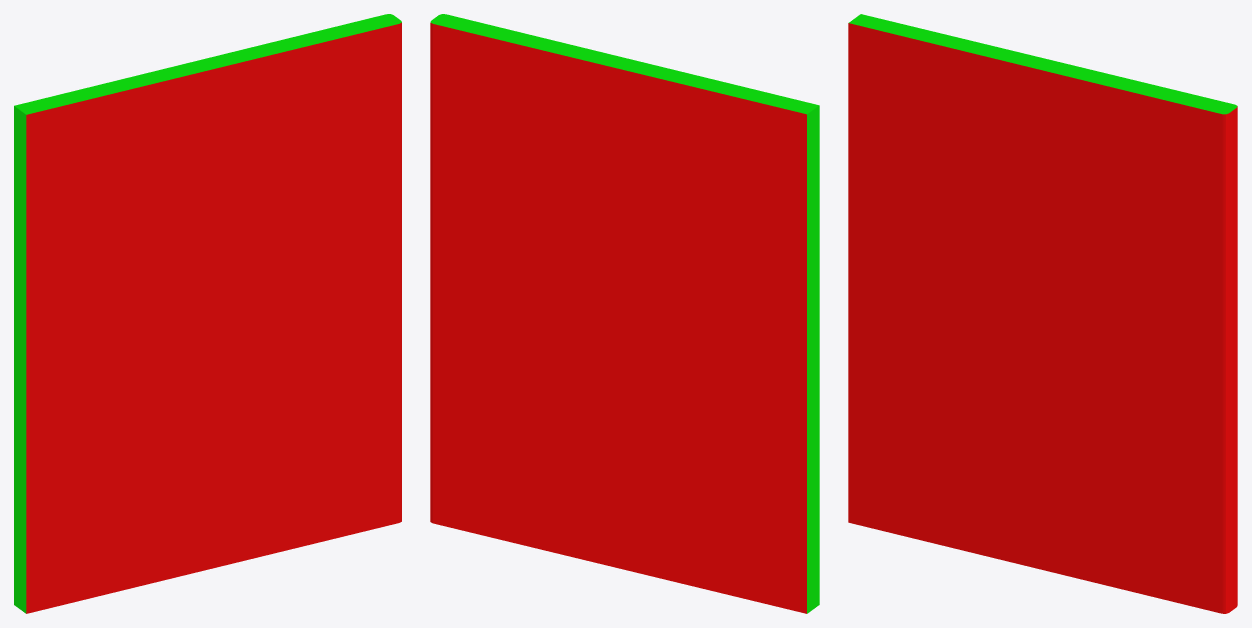
The model's file is SM_Book_01a.glb.
3 views of the same model, side by side, from view 1: azimuth 30°, elevation 25°; view 2: azimuth 150°, elevation 25°; view 3: azimuth 330°, elevation 25° (orthographic).
Visible parts, largest first — view 1: SM_Book_01a_LOD0; view 2: SM_Book_01a_LOD0; view 3: SM_Book_01a_LOD0.
Boxes of the visible parts, x1=… form: SM_Book_01a_LOD0: x1=14, y1=14, x2=401, y2=613; SM_Book_01a_LOD0: x1=430, y1=14, x2=819, y2=613; SM_Book_01a_LOD0: x1=848, y1=14, x2=1237, y2=613.
Size of what is drawn, in the model's own units: 0.2413 by 0.3048 by 0.0145.
